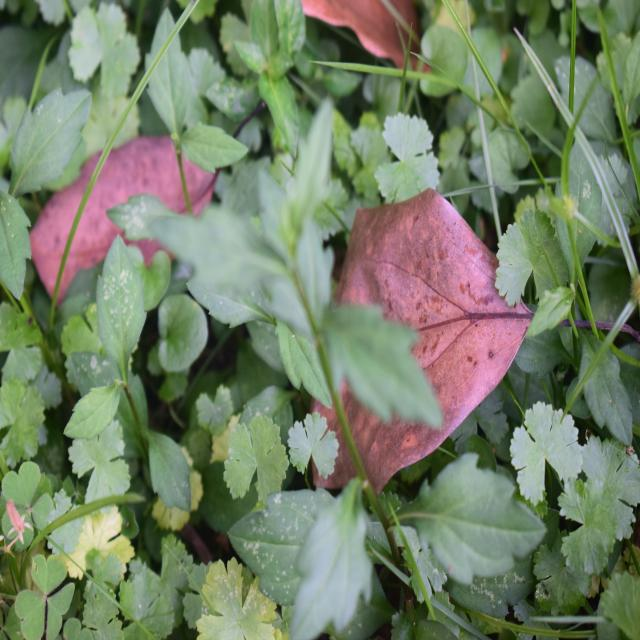Indian aster: (199, 160, 457, 576)
